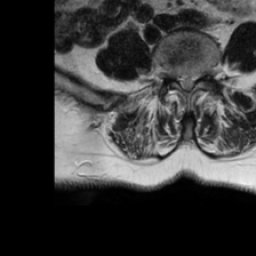CCS_stenosis: (183, 68, 190, 96)
LFS_severe_stenosis: (197, 65, 204, 87)
LLS_normal: (190, 71, 196, 92)
RFS_severe_stenosis: (168, 65, 177, 86)
RLS_normal: (176, 70, 183, 92)
